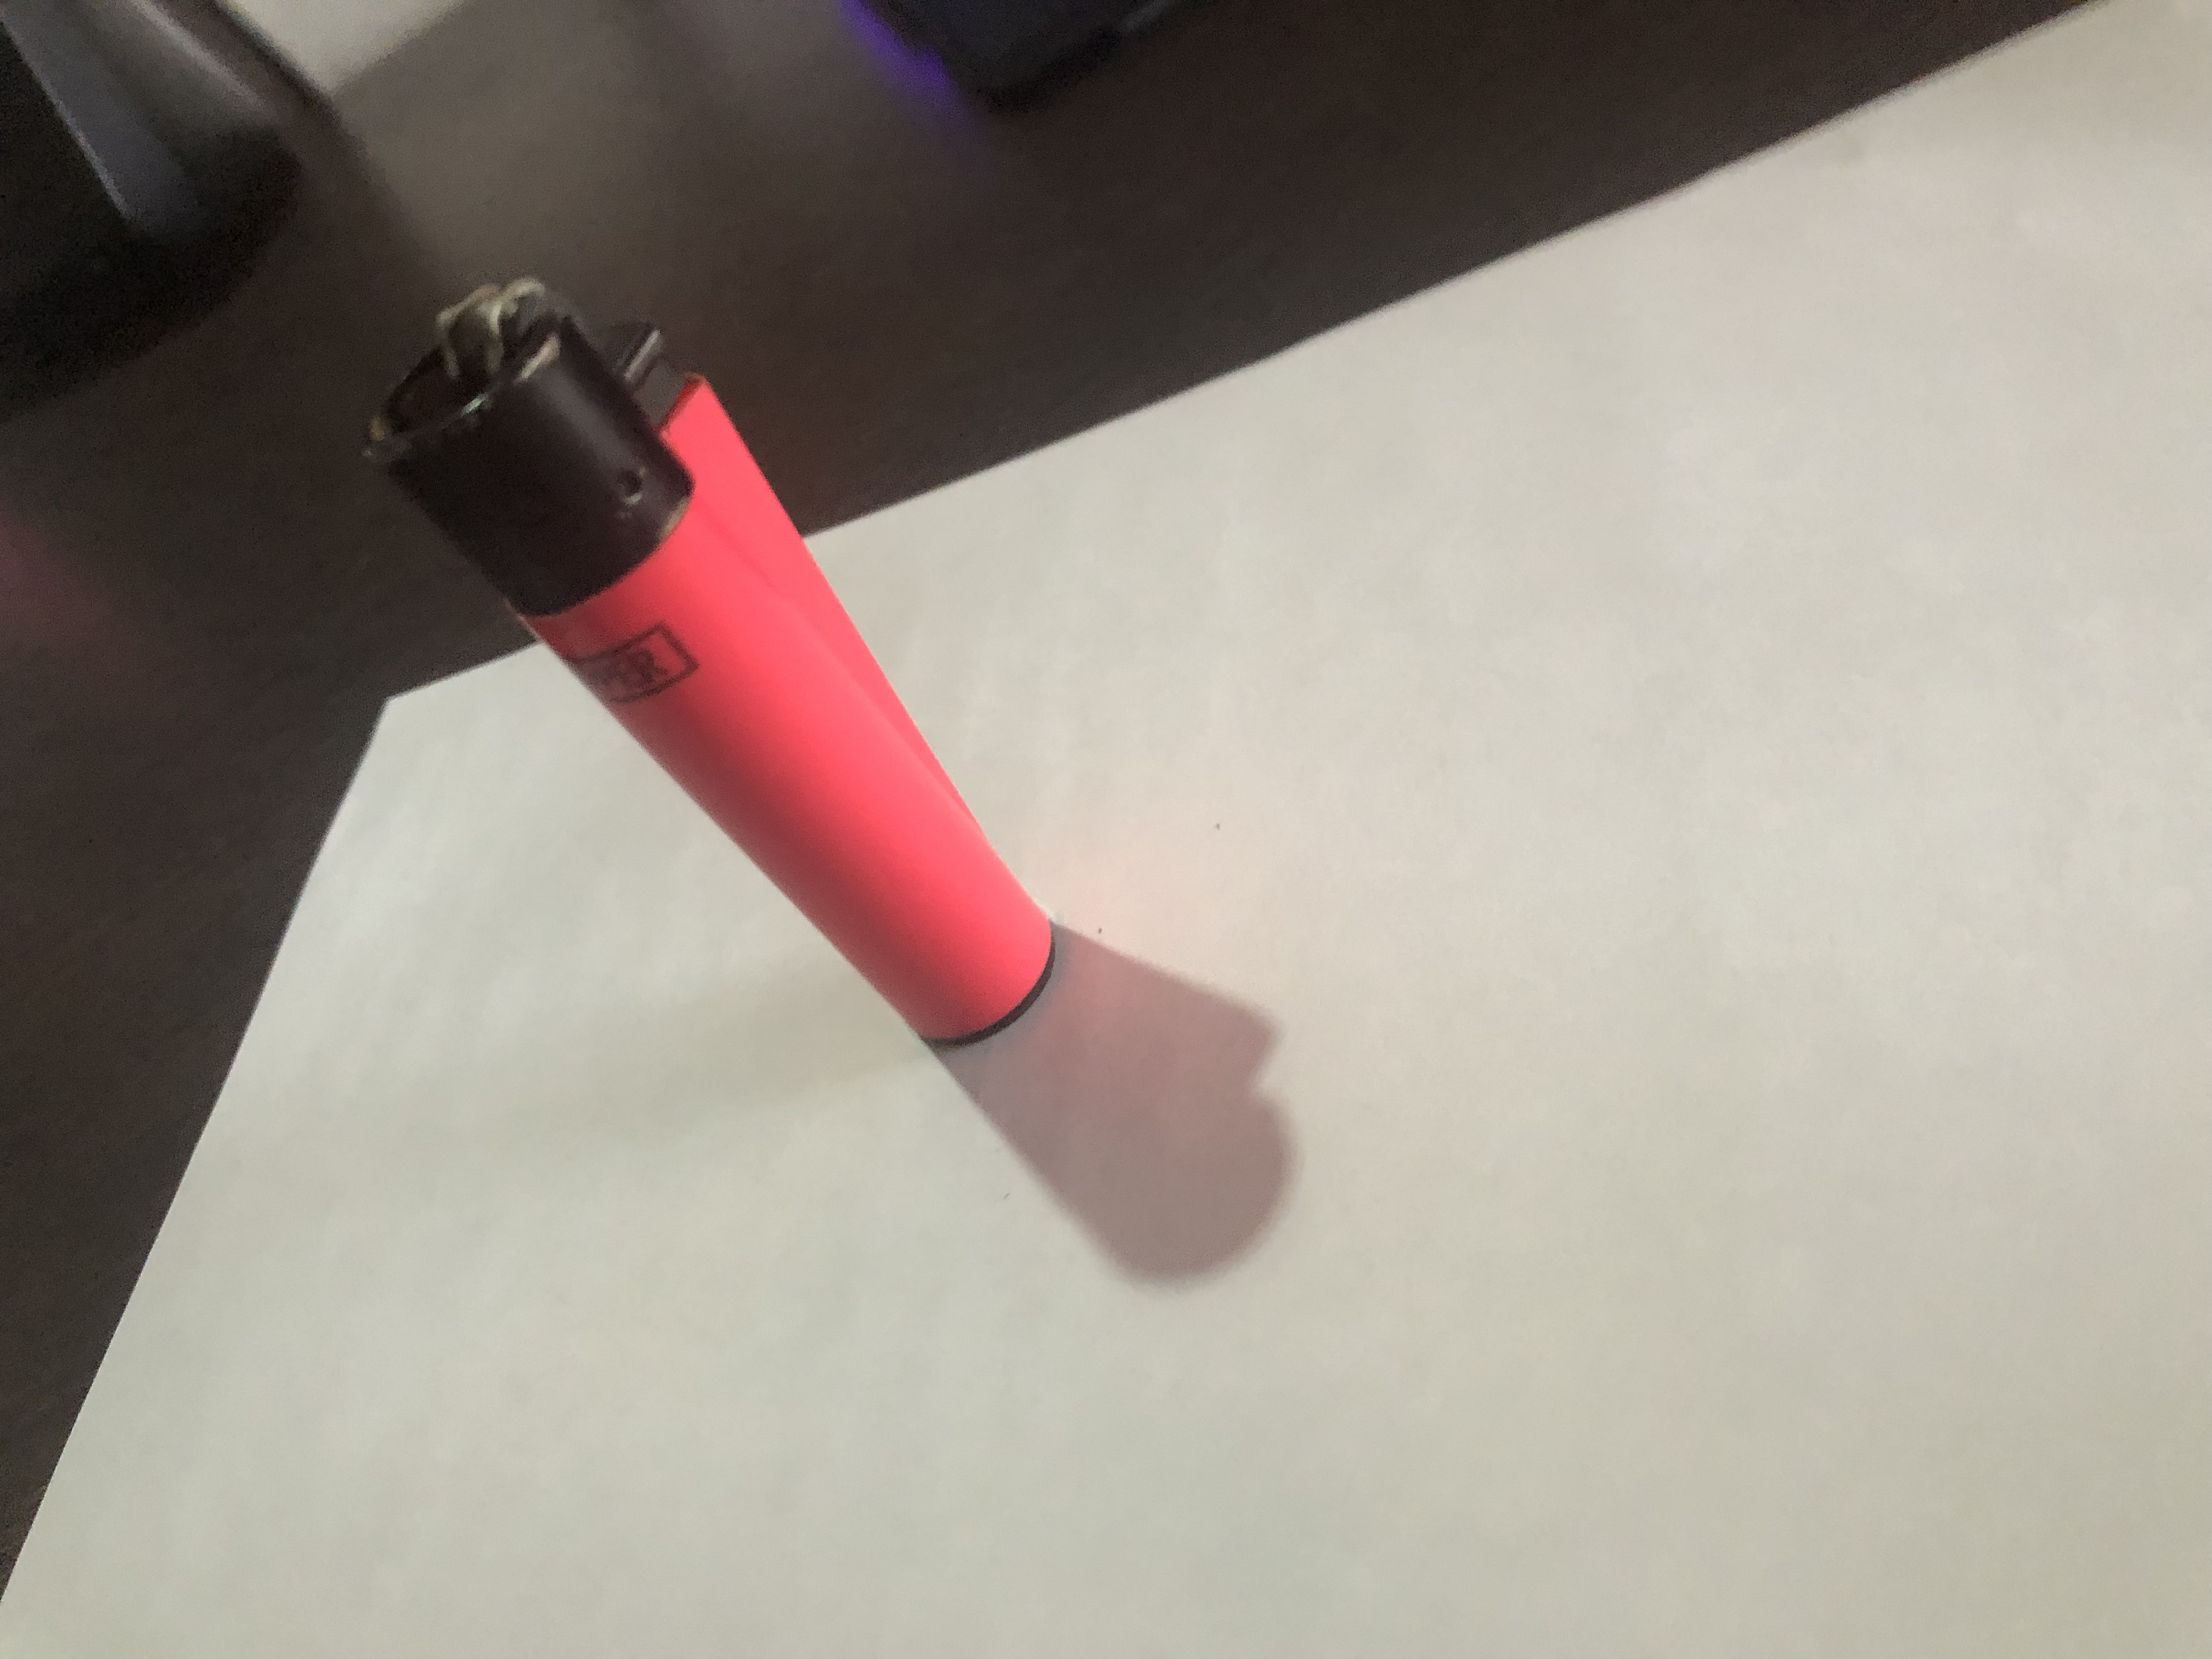Mechero: (348, 272, 1069, 1060)
